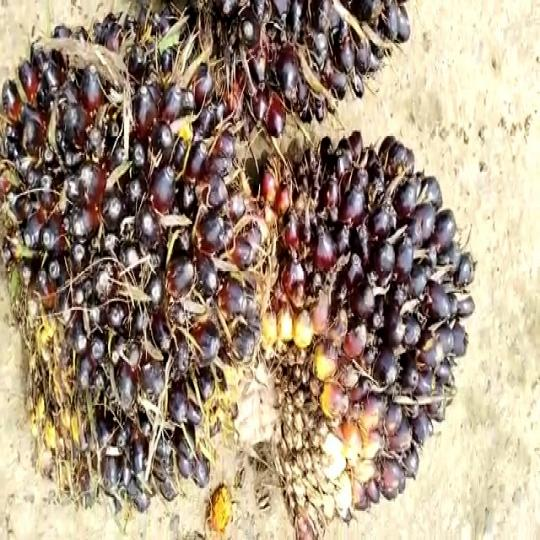mentah: (0, 0, 260, 514), (240, 129, 482, 540)
